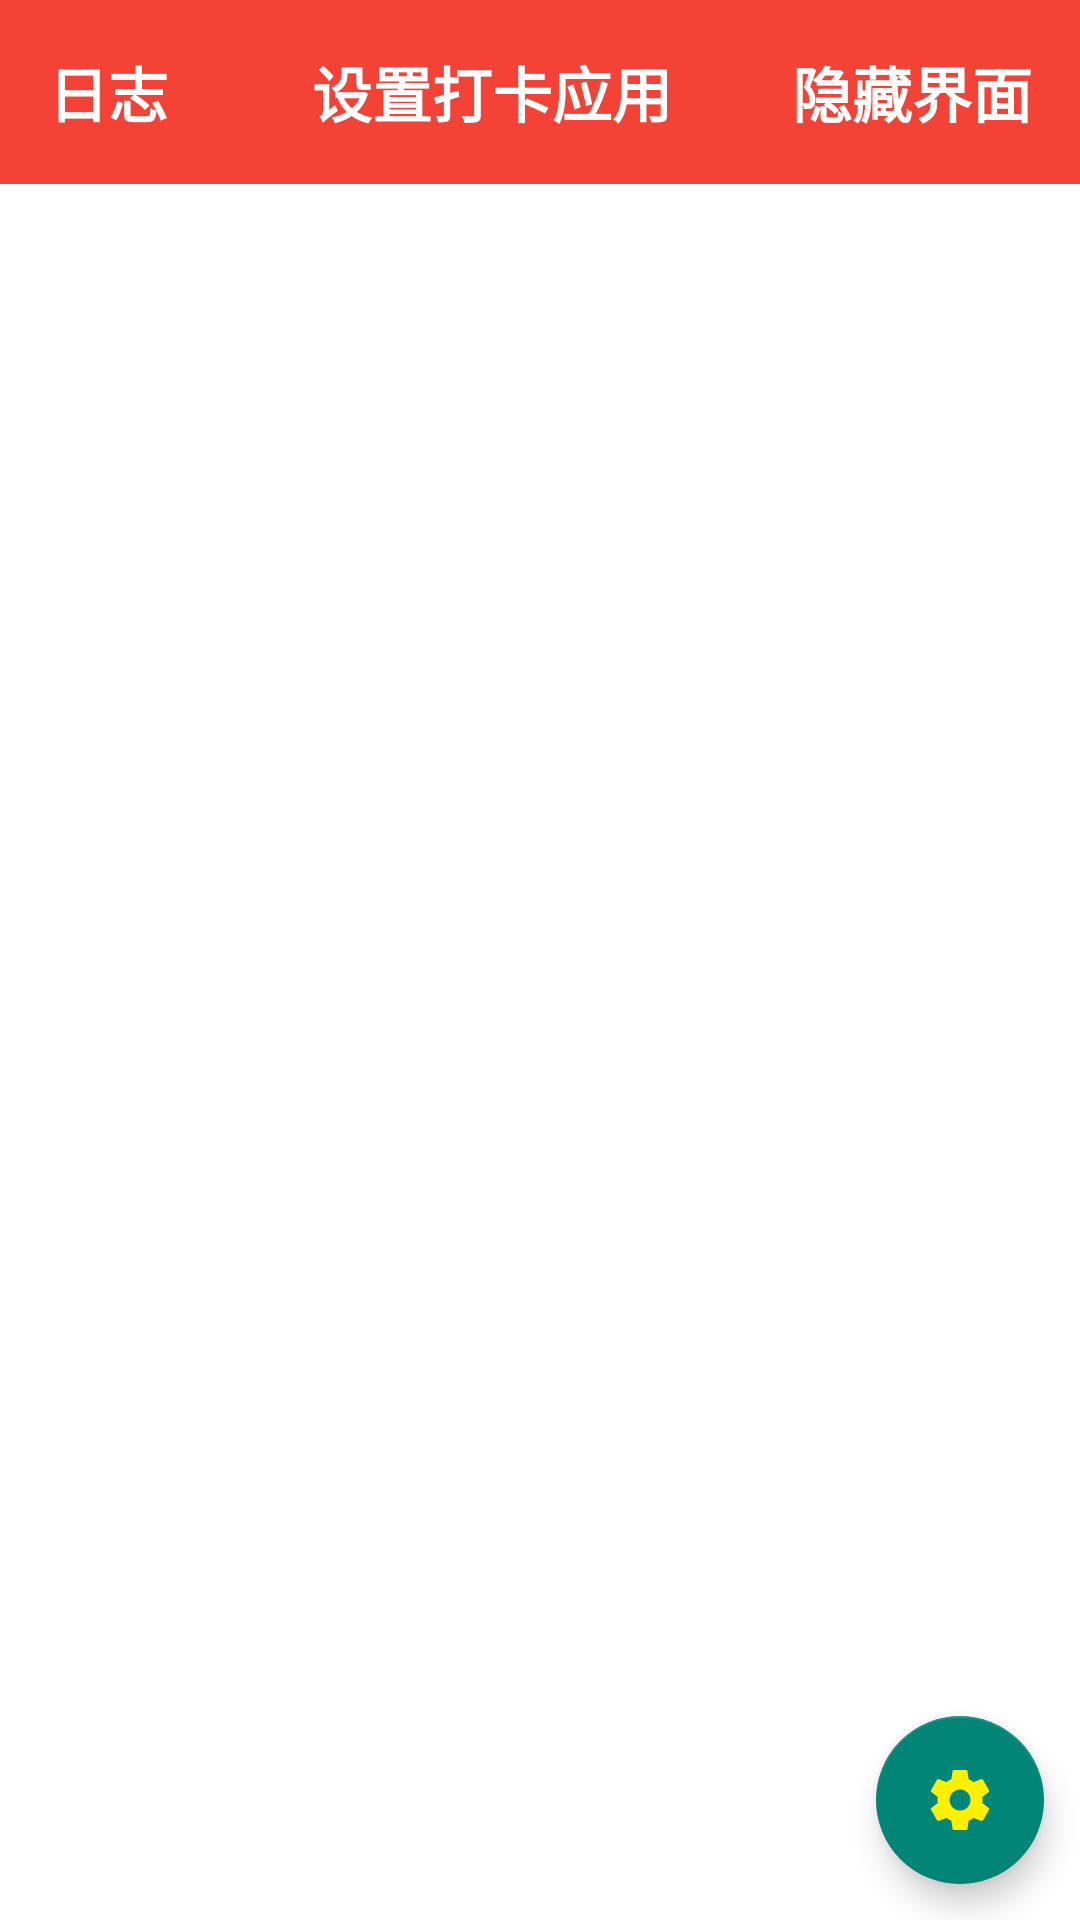

Locate icon controls on the screen. Image size 1080w x 1920h, boxes as [x1, y1, x2, y2].
settings: [876, 1716, 1044, 1884]
